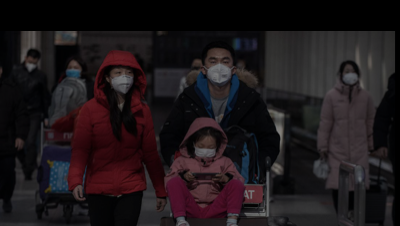with_mask: (203, 55, 233, 85), (108, 67, 134, 94), (193, 140, 219, 158), (340, 67, 358, 85), (24, 58, 38, 73), (66, 64, 83, 76)
